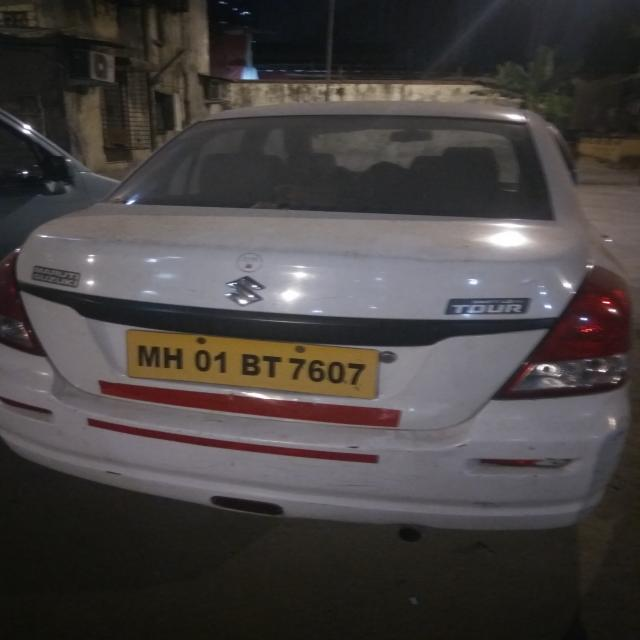Number-Plate: (128, 331, 378, 393)
